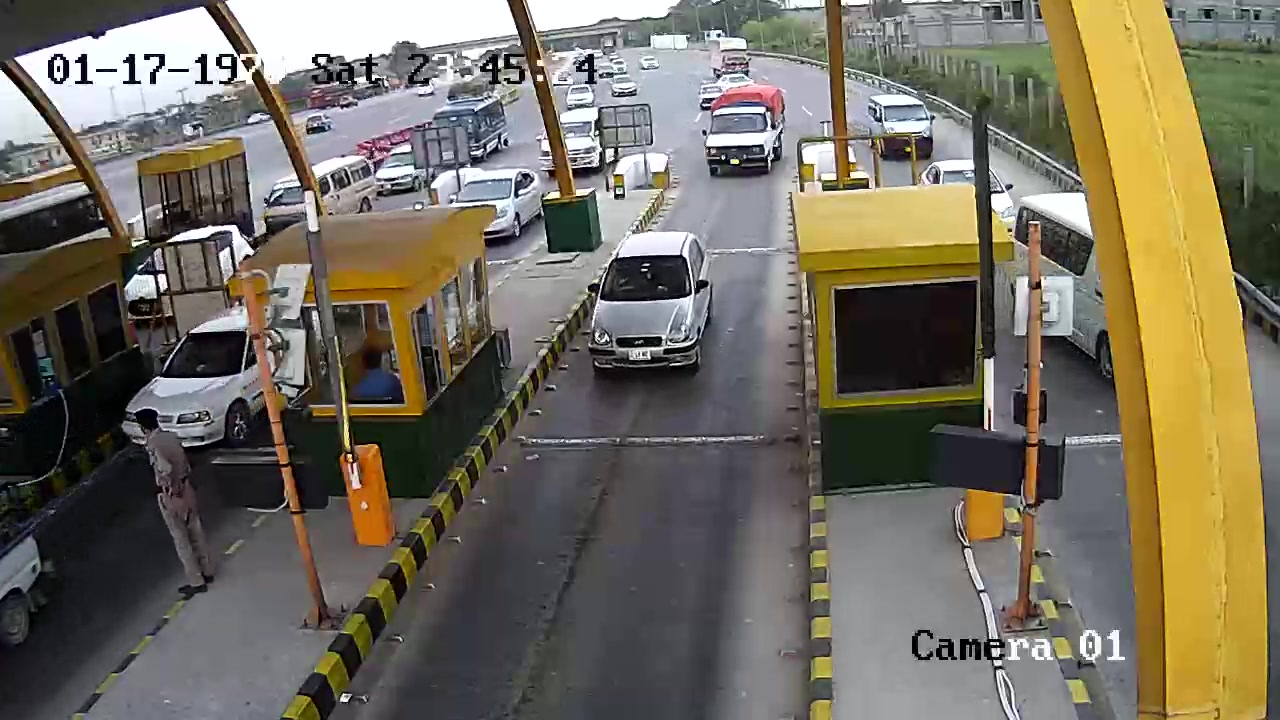F1: (583, 225, 721, 385)
